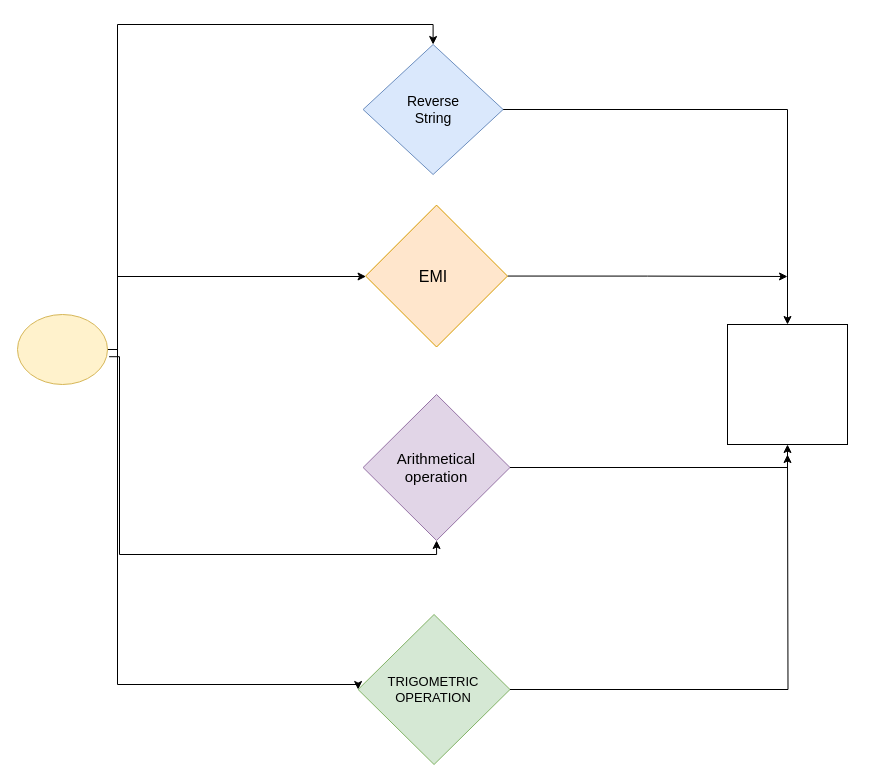
Image size: 871x782. Some labels were removed from this diagram. The centre of each missing label's shape, as x and y in pixels:
OUTPUT SCREEN: the point at 787,384
User: the point at 62,349
